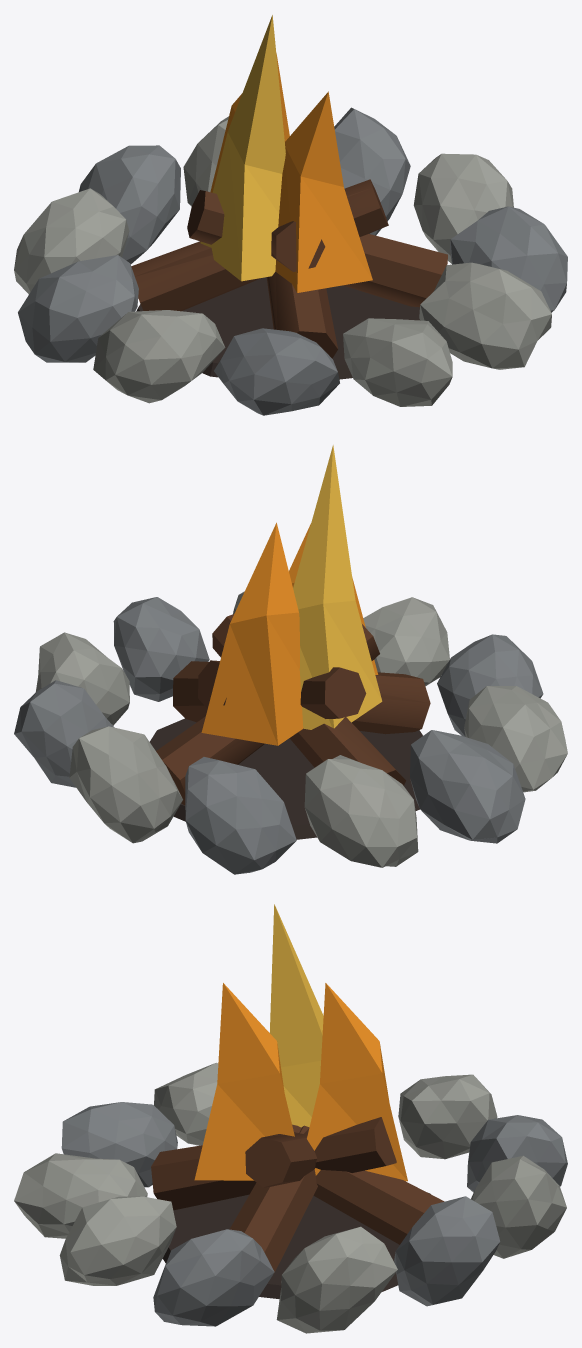
Rendered from 07_campfire.fbx.
The picture shows the model from 3 angles, top to bottom: view 1: azimuth 30°, elevation 25°; view 2: azimuth 150°, elevation 25°; view 3: azimuth 270°, elevation 25°; orthographic projection. The views are drawn at different scales.
Parts seen in each view (by area): view 1: 07_campfire; view 2: 07_campfire; view 3: 07_campfire.
Part boxes in pixels (x1,y1,x2,y2): 07_campfire: (14, 15, 567, 415); 07_campfire: (14, 445, 567, 874); 07_campfire: (14, 904, 567, 1333).
Size of the model in its own units: 1.9 by 1.24 by 1.94.
1 material, 1 textured.
